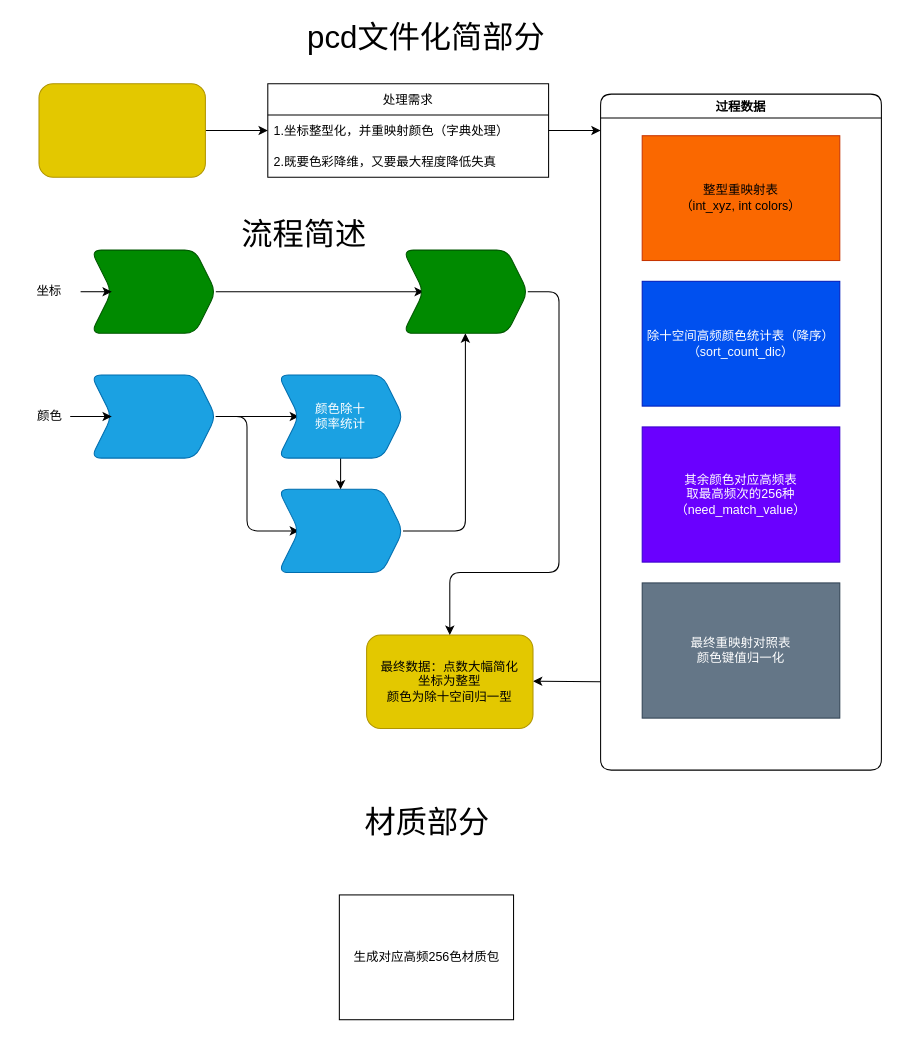
Some shapes in this 900 by 1038 pixel diagram are drawn without their labels. Each missing label, with the centre of its shape:
"再映射" belongs at (465,291).
"初始数据：未整型化 坐标为浮点型 颜色为RGB256归一型" belongs at (121,130).
"整型重映射" belongs at (153,291).
"转256" belongs at (153,416).
"颜色对照" belongs at (340,530).
